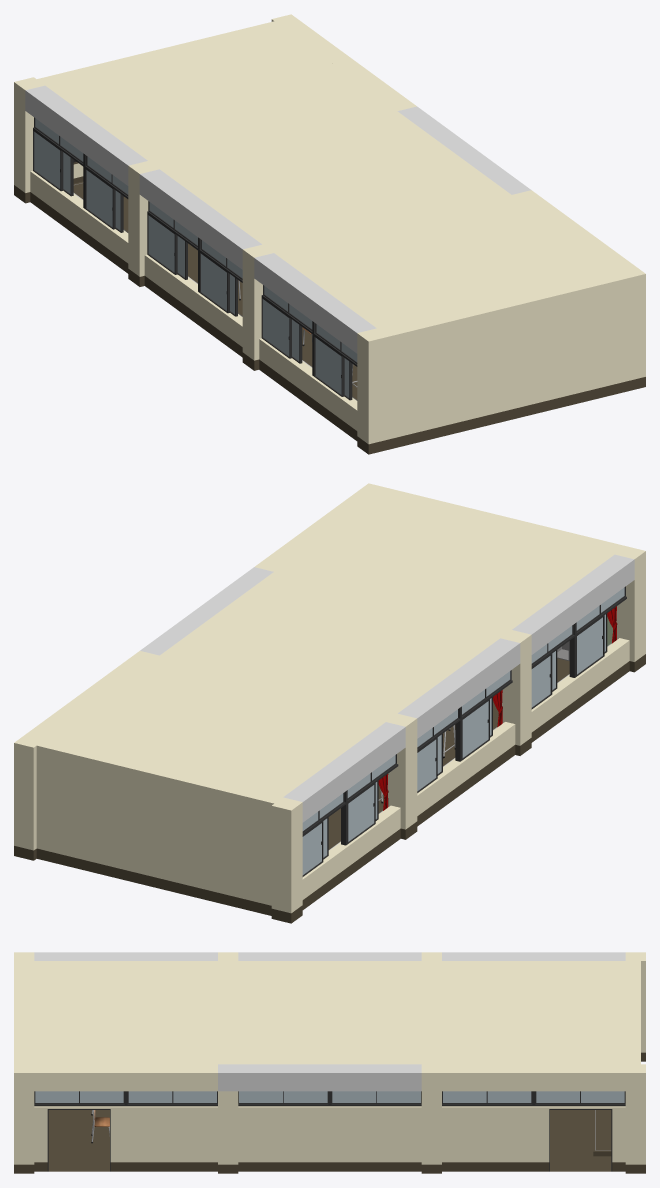
The picture shows the model from 3 angles, top to bottom: view 1: azimuth 30°, elevation 25°; view 2: azimuth 150°, elevation 25°; view 3: azimuth 270°, elevation 25°; orthographic projection. The views are drawn at different scales.
Parts seen in each view (by area): view 1: Chair.015; view 2: Chair.015; view 3: Chair.015.
Part boxes in pixels (x1=…): Chair.015: x1=14, y1=14, x2=645, y2=454; Chair.015: x1=14, y1=483, x2=645, y2=923; Chair.015: x1=14, y1=952, x2=645, y2=1173.
Size of the model in its own units: 8.53 by 3.33 by 18.9.
Materials: 18 (5 with a texture image).
